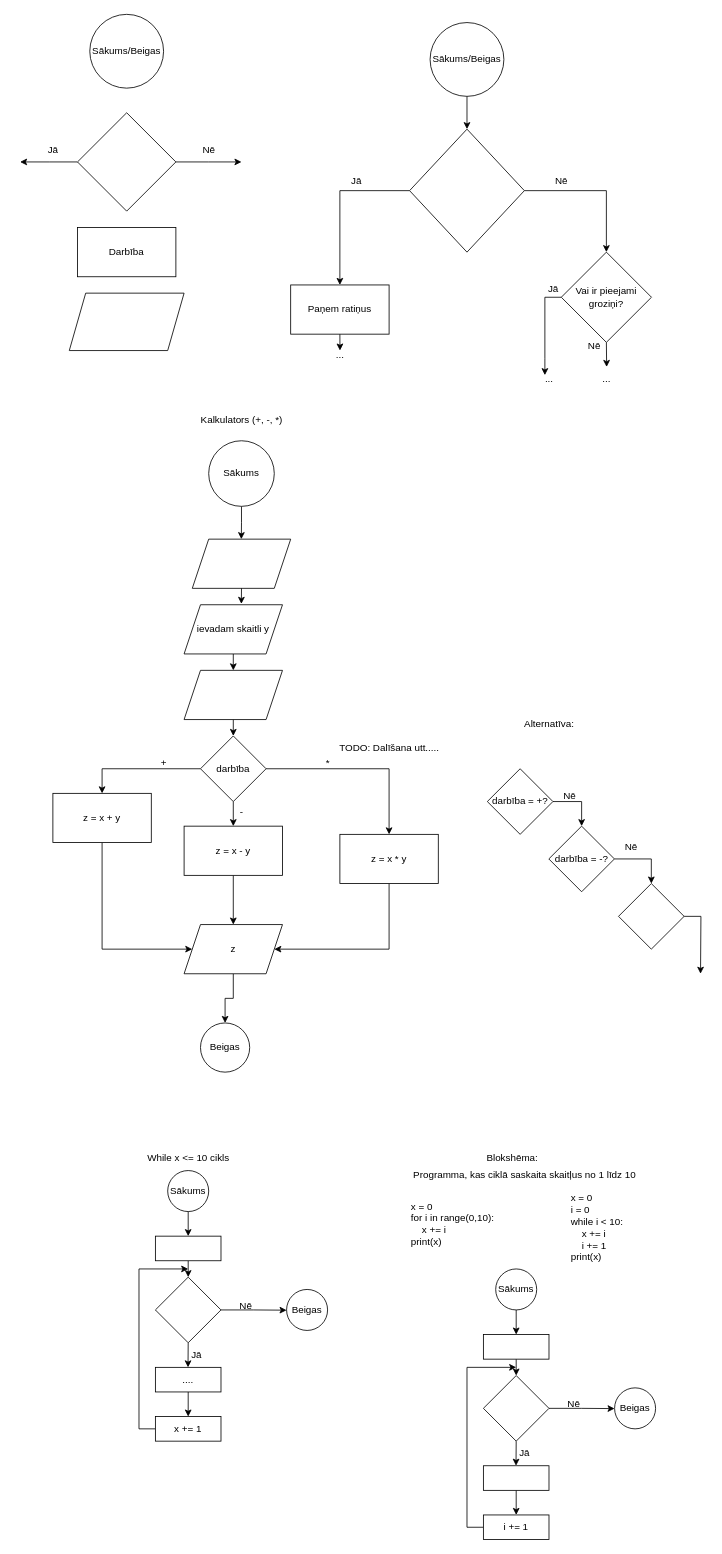
This 722x1554 diagram has some shape labels left out. Each missing label, with the centre of its shape:
darbība = *?: the point at 651,916
i < 10: the point at 516,1408
ievadam darbību: the point at 232,695
ievadam skaitli x: the point at 241,563
Ievade/Izvade (input/print): the point at 126,321
if / else (pārbaude - jā/nē): the point at 126,161
Vai ir pieejami ratiņi?: the point at 466,190
x += i: the point at 516,1477
x < 10: the point at 188,1309
x = 0: the point at 188,1248
x = 0 i = 0: the point at 516,1346
